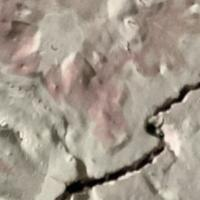crack: (56, 75, 199, 199)
